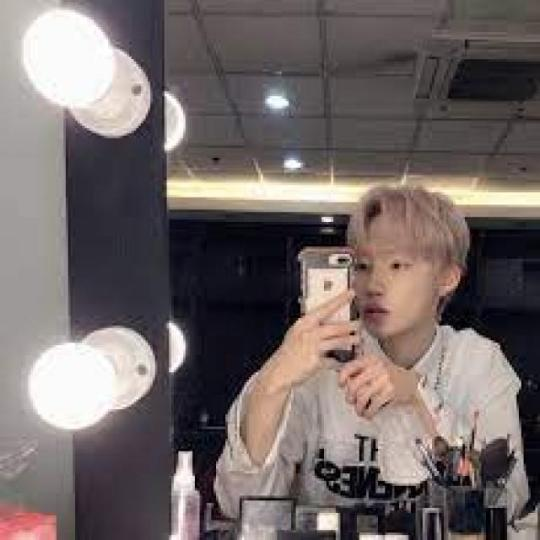phone: (298, 246, 359, 366)
